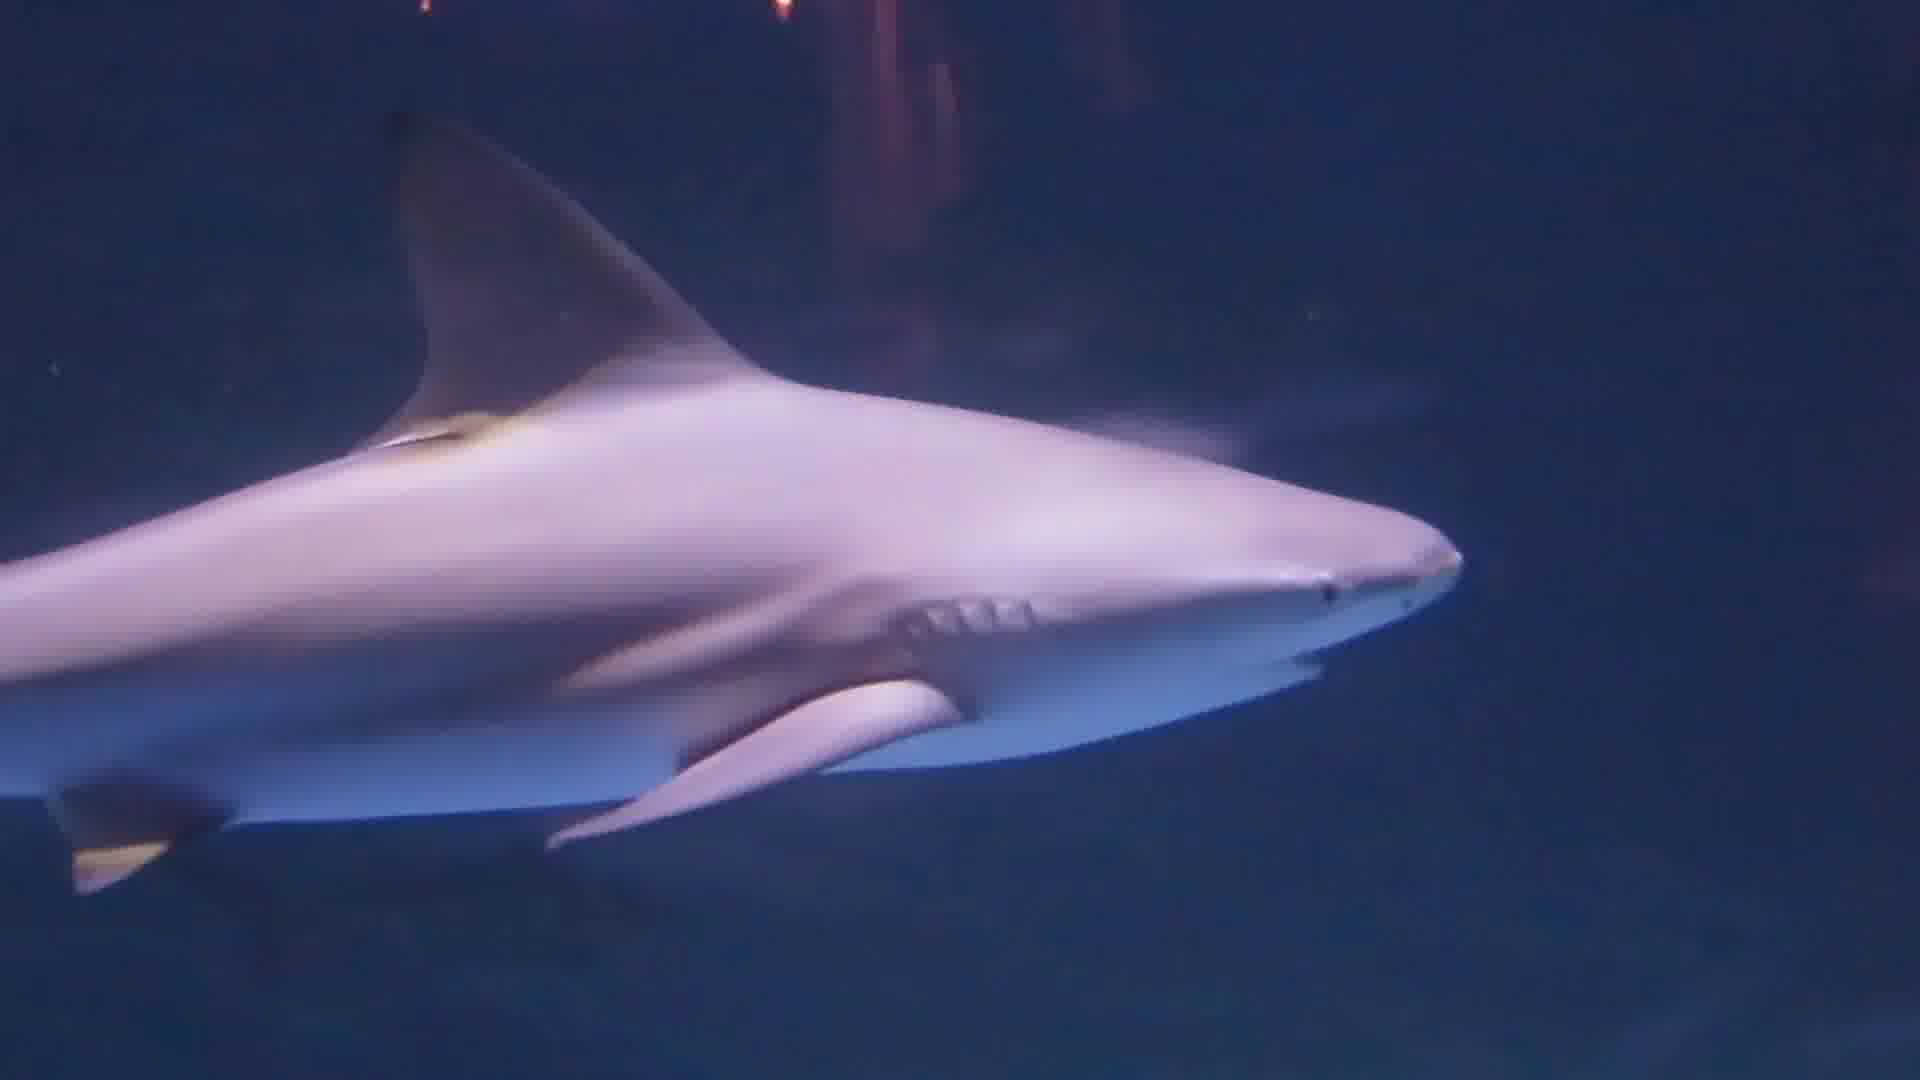Carcharhinus leucas: (1, 28, 1542, 1002)
